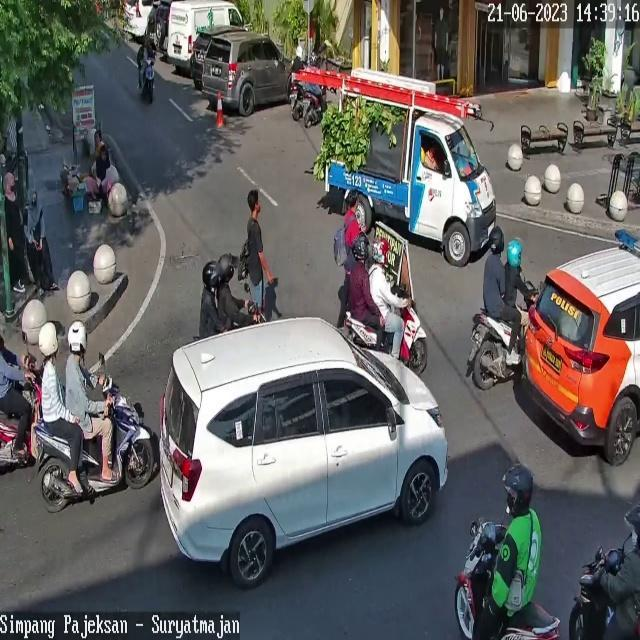Car: (156, 314, 449, 588)
Motorcycle: (30, 397, 158, 513), (464, 281, 539, 390), (136, 50, 156, 104)
Police-car: (517, 231, 639, 466)
Truck: (299, 66, 497, 267)
